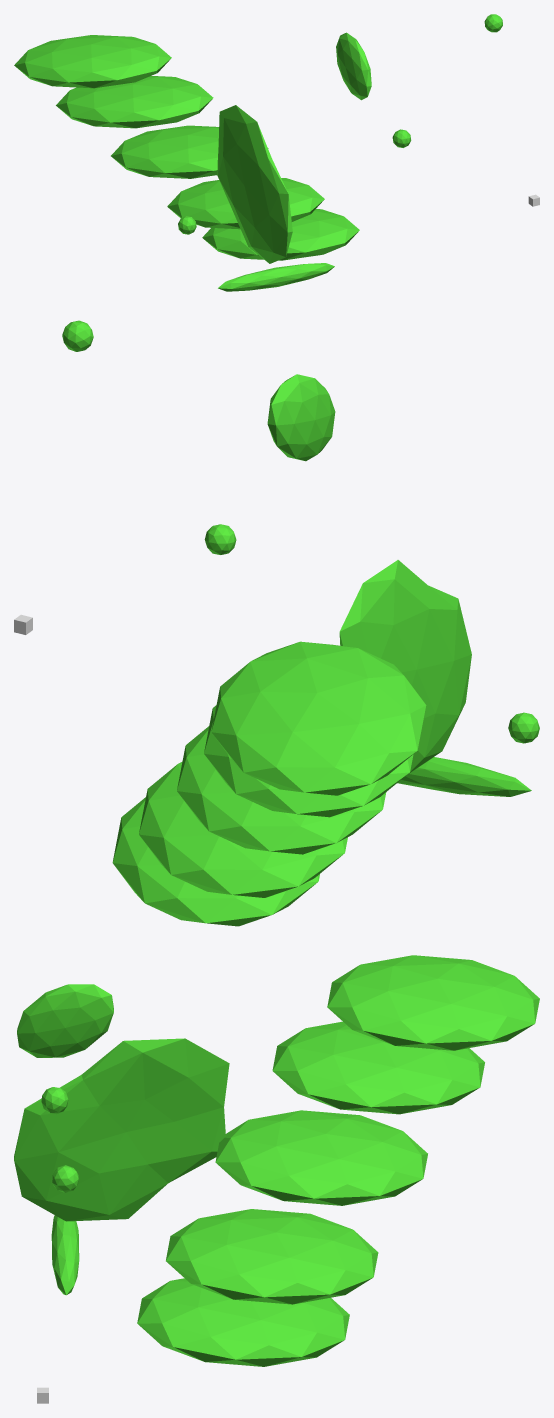
File: planetsFBXFINAL.fbx
3 views of the same model, one above another, from view 1: azimuth 30°, elevation 25°; view 2: azimuth 150°, elevation 25°; view 3: azimuth 270°, elevation 25° (orthographic). The views are drawn at different scales.
Visible parts, largest first — view 1: Icosphere.001, Icosphere.009, Icosphere.007, Icosphere.006, Icosphere.008, Icosphere.000, Icosphere.037, Icosphere.004; view 2: Icosphere.009, Icosphere.001, Icosphere.000, Icosphere.006, Icosphere.008, Icosphere.007, Icosphere.004, Icosphere.037, Icosphere.005, Icosphere.002, Icosphere.003; view 3: Icosphere.001, Icosphere.009, Icosphere.000, Icosphere.006, Icosphere.007, Icosphere.008, Icosphere.004, Icosphere.037, Icosphere.003, Icosphere.005.
Part boxes in pixels (bbox=[...]): Icosphere.001: bbox=[217, 105, 292, 263]; Icosphere.009: bbox=[14, 35, 171, 88]; Icosphere.007: bbox=[56, 76, 213, 128]; Icosphere.006: bbox=[111, 125, 268, 178]; Icosphere.008: bbox=[202, 209, 359, 260]; Icosphere.000: bbox=[167, 178, 324, 229]; Icosphere.037: bbox=[218, 263, 334, 291]; Icosphere.004: bbox=[336, 32, 371, 100]; Icosphere.009: bbox=[211, 641, 426, 795]; Icosphere.001: bbox=[339, 560, 471, 773]; Icosphere.000: bbox=[139, 761, 347, 897]; Icosphere.006: bbox=[177, 726, 386, 854]; Icosphere.008: bbox=[112, 797, 319, 926]; Icosphere.007: bbox=[204, 705, 413, 817]; Icosphere.004: bbox=[267, 374, 335, 461]; Icosphere.037: bbox=[397, 757, 531, 796]; Icosphere.005: bbox=[62, 320, 93, 351]; Icosphere.002: bbox=[508, 712, 539, 743]; Icosphere.003: bbox=[204, 524, 236, 554]; Icosphere.001: bbox=[14, 1038, 229, 1221]; Icosphere.009: bbox=[327, 955, 539, 1050]; Icosphere.000: bbox=[166, 1209, 378, 1304]; Icosphere.006: bbox=[215, 1110, 427, 1205]; Icosphere.007: bbox=[272, 1021, 484, 1114]; Icosphere.008: bbox=[137, 1278, 349, 1366]; Icosphere.004: bbox=[17, 984, 113, 1057]; Icosphere.037: bbox=[51, 1215, 79, 1295]; Icosphere.003: bbox=[52, 1165, 78, 1192]; Icosphere.005: bbox=[41, 1087, 68, 1114].
Size of the model in its own units: 10478 by 6820 by 8709.
